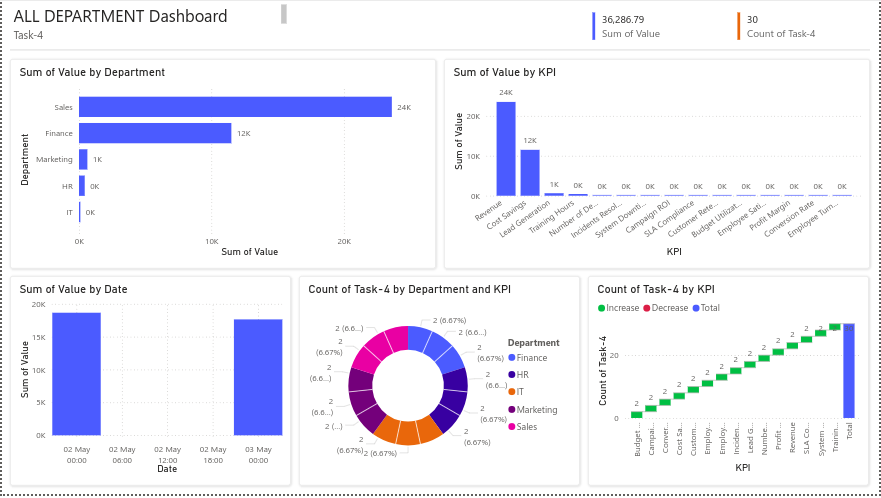

This screenshot's page, from the dashboard's own definition file:
{"tool":"powerbi","page":{"name":"ALL DEPARTMENT","canvas":[1280,720],"ordinal":3},"visuals":[{"type":"shape","box":[12,58,1256,26],"z":0},{"type":"shape","box":[12,84,622,306],"z":1000},{"type":"shape","box":[646,84,622,306],"z":2000},{"type":"shape","box":[12,402,410,306],"z":3000},{"type":"shape","box":[434,402,410,306],"z":4000},{"type":"shape","box":[856,402,410,306],"z":5000},{"type":"waterfallChart","fields":{"Category":["Task-4.KPI"],"Y":["Count(Task-4)"]},"box":[864,414,394,282],"z":6000},{"type":"donutChart","fields":{"Category":["Task-4.Department"],"Y":["Count(Task-4)"],"Series":["Task-4.KPI"]},"box":[442,414,394,282],"z":7000},{"type":"lineStackedColumnComboChart","fields":{"Category":["Task-4.Date"],"Y":["Sum(Task-4.Value)"]},"box":[20,414,394,282],"z":8000},{"type":"columnChart","fields":{"Category":["Task-4.KPI"],"Y":["Sum(Task-4.Value)"]},"box":[654,96,606,282],"z":9000},{"type":"clusteredBarChart","fields":{"Category":["Task-4.Department"],"Y":["Sum(Task-4.Value)"]},"box":[20,96,606,282],"z":10000},{"type":"multiRowCard","fields":{"Values":["Count(Task-4)"]},"box":[1069,12,199,50],"z":11000},{"type":"multiRowCard","fields":{"Values":["Sum(Task-4.Value)"]},"box":[858,12,199,50],"z":12000},{"type":"textbox","box":[12,33,306,32],"z":13000},{"type":"textbox","box":[12.2,0,409.3,40.1],"z":14000}]}

Visuals, with their boxes in screenshot pixels (x1, y1, x2, y2), scaled from the page's 1280x720 canvas onto the 881x498 screenshot:
shape: pyautogui.locateOnScreen(8, 40, 873, 58)
shape: pyautogui.locateOnScreen(8, 58, 436, 270)
shape: pyautogui.locateOnScreen(445, 58, 873, 270)
shape: pyautogui.locateOnScreen(8, 278, 290, 490)
shape: pyautogui.locateOnScreen(299, 278, 581, 490)
shape: pyautogui.locateOnScreen(589, 278, 871, 490)
waterfallChart - Task-4.KPI x Count(Task-4): pyautogui.locateOnScreen(595, 286, 866, 481)
donutChart - Task-4.Department x Count(Task-4): pyautogui.locateOnScreen(304, 286, 575, 481)
lineStackedColumnComboChart - Task-4.Date x Sum(Task-4.Value): pyautogui.locateOnScreen(14, 286, 285, 481)
columnChart - Task-4.KPI x Sum(Task-4.Value): pyautogui.locateOnScreen(450, 66, 867, 261)
clusteredBarChart - Task-4.Department x Sum(Task-4.Value): pyautogui.locateOnScreen(14, 66, 431, 261)
multiRowCard - Count(Task-4): pyautogui.locateOnScreen(736, 8, 873, 43)
multiRowCard - Sum(Task-4.Value): pyautogui.locateOnScreen(591, 8, 728, 43)
textbox: pyautogui.locateOnScreen(8, 23, 219, 45)
textbox: pyautogui.locateOnScreen(8, 0, 290, 28)
